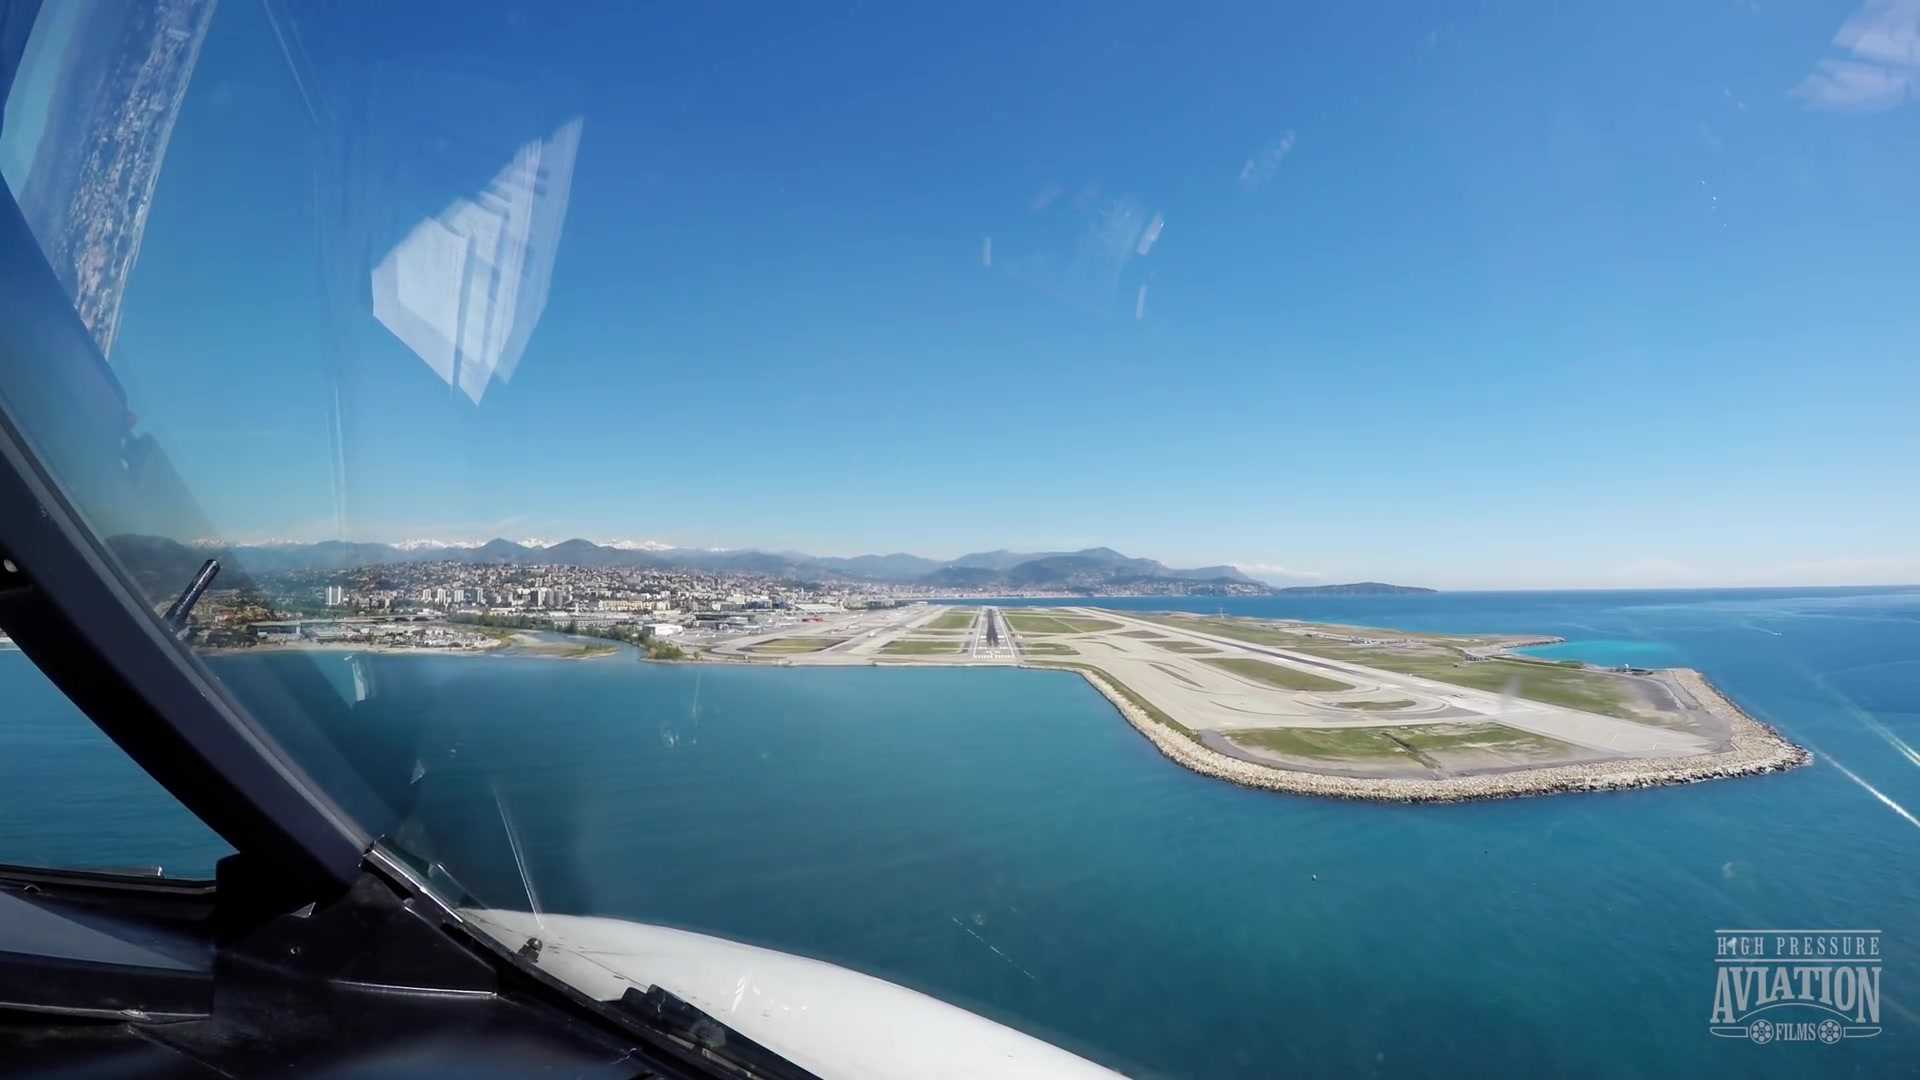entrance: (972, 651, 1015, 659)
runway: (967, 607, 1018, 665)
